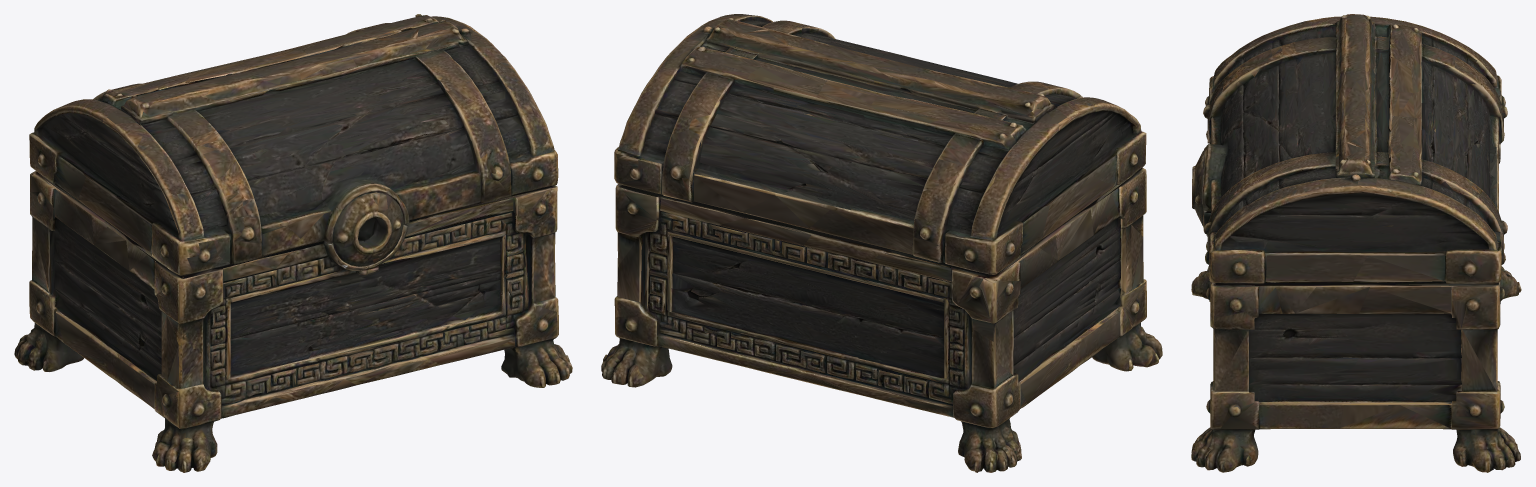
The model's file is chest.glb.
The picture shows the model from 3 angles, left to right: view 1: azimuth 30°, elevation 25°; view 2: azimuth 150°, elevation 25°; view 3: azimuth 270°, elevation 25°; orthographic projection. The views are drawn at different scales.
Parts seen in each view (by area): view 1: lid, base; view 2: base, lid; view 3: lid, base.
Boxes of the visible parts, <box> form: lid: <box>29,14,558,275</box>; base: <box>14,171,572,472</box>; base: <box>601,167,1162,472</box>; lid: <box>614,14,1146,274</box>; lid: <box>1192,14,1507,283</box>; base: <box>1191,131,1521,472</box>.
Size of the model in its own units: 1.35 by 0.9504 by 0.9793.
2 materials, 1 textured.
